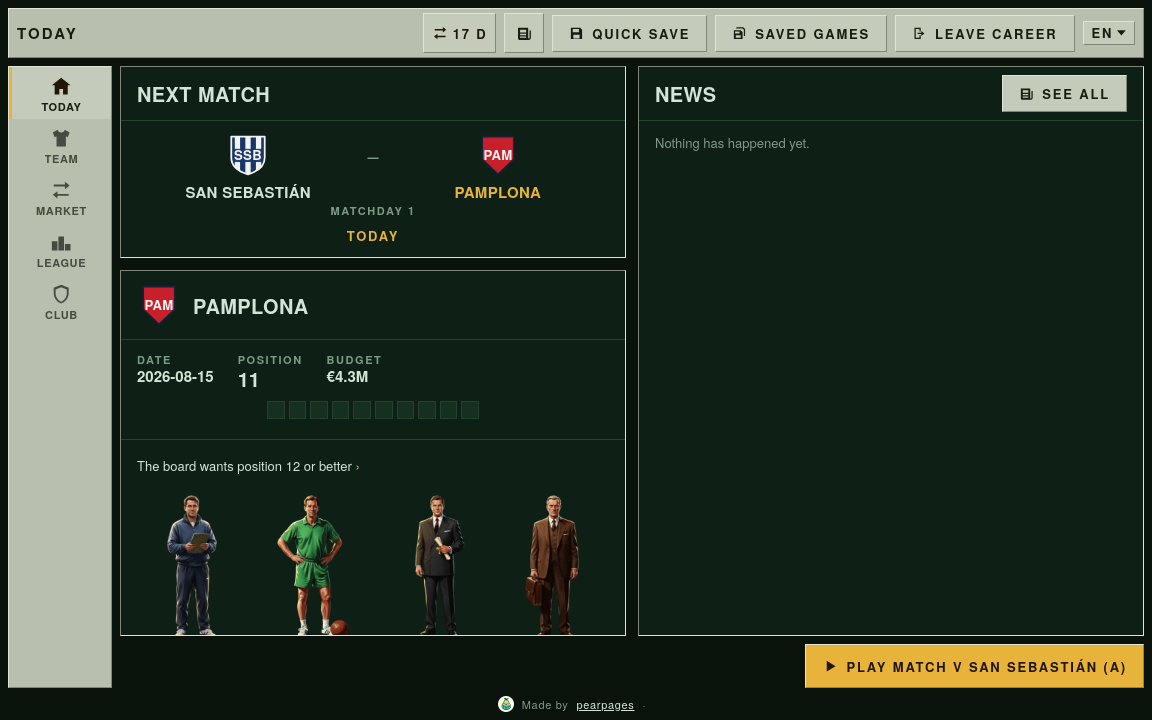
it: Caja › comes back to the hub
Click the button "Club" at coordinates (60, 301), box 9,275 -> 111,327
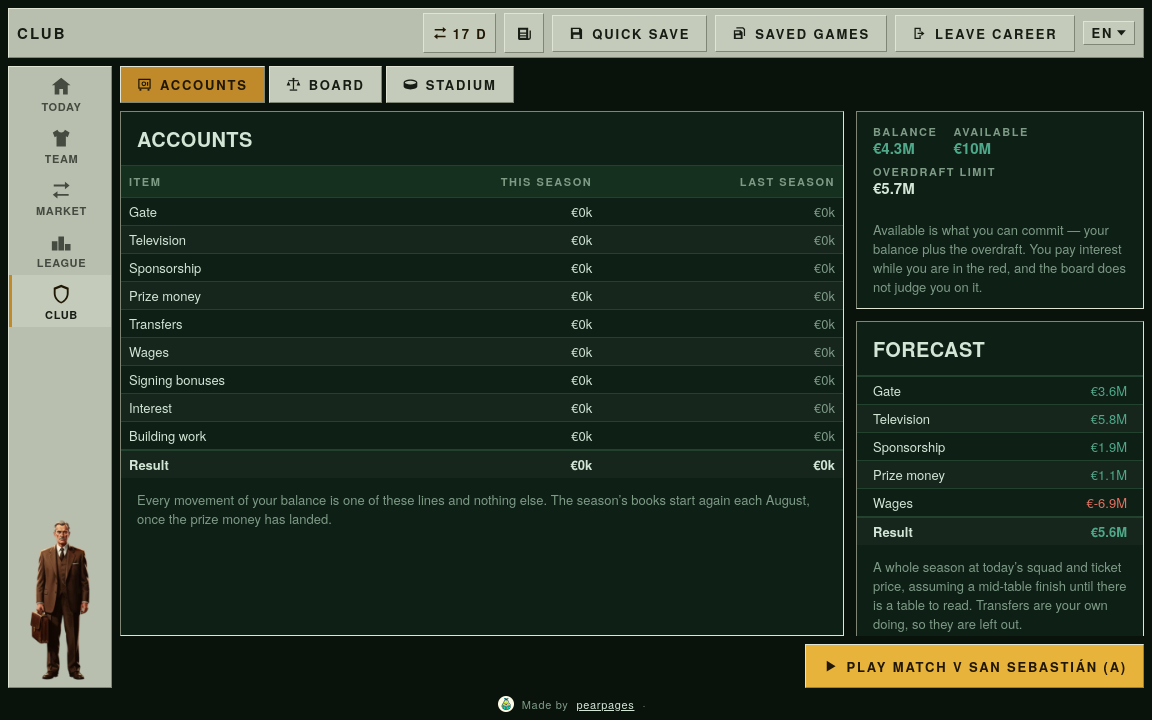
Click the button "Today" at coordinates (60, 93), box 9,67 -> 111,119
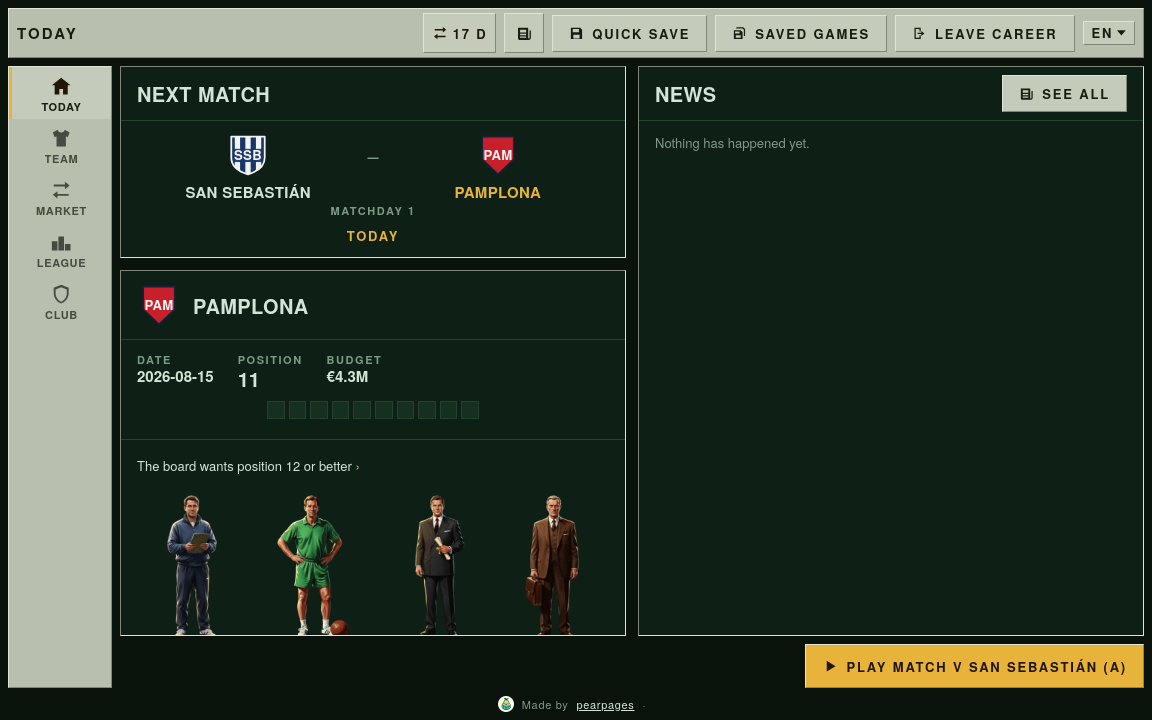
Result: the heading "Today" is shown at 17,22 -> 78,44
